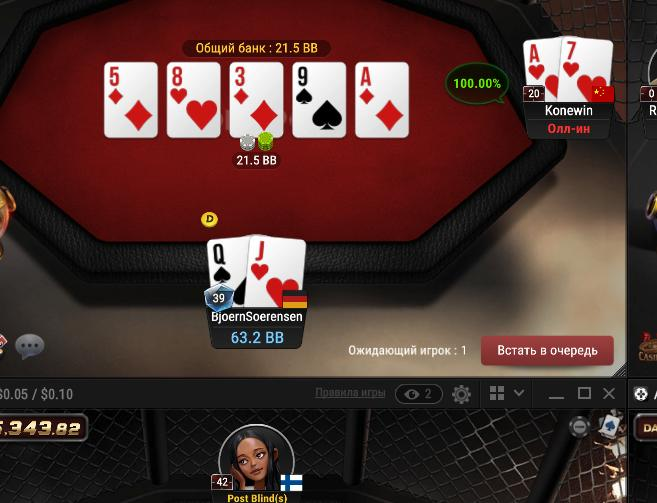3d: (231, 63, 281, 135)
5d: (104, 62, 157, 137)
7h: (560, 35, 613, 101)
8h: (167, 64, 220, 136)
9s: (293, 63, 344, 137)
Ad: (356, 62, 408, 137)
Ah: (524, 37, 560, 103)
Jh: (248, 235, 307, 310)
Qs: (205, 236, 247, 311)
